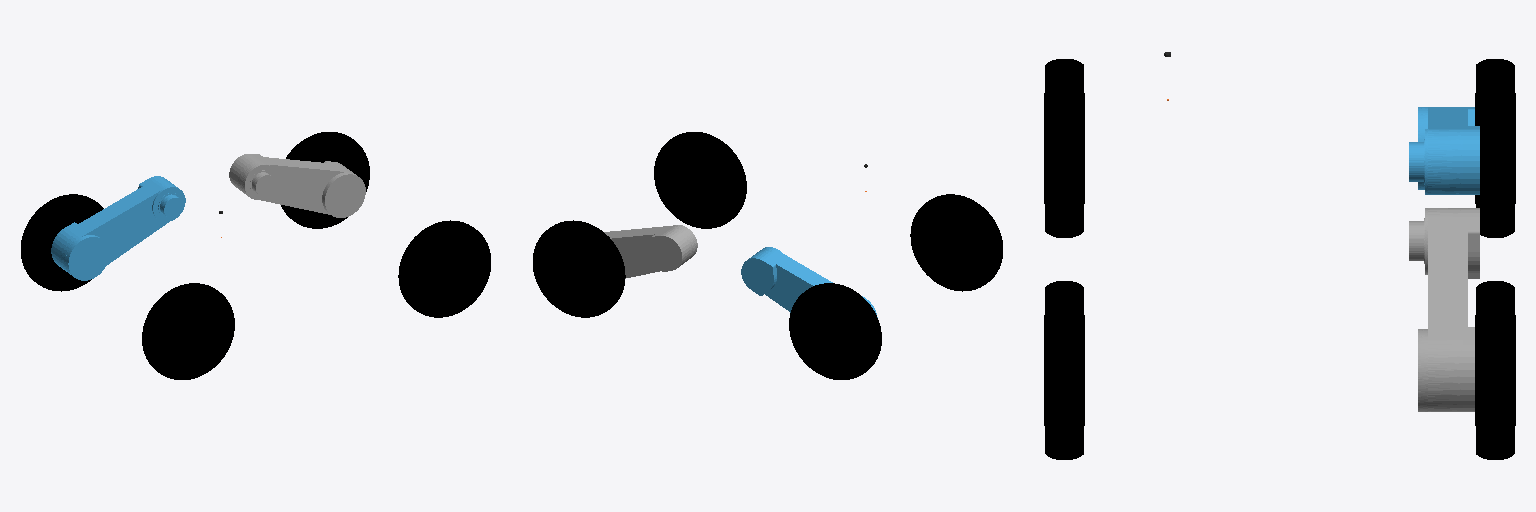
URDF robot description (AFMER):
<?xml version="1.0"?>
<robot name="AFMER">

    <material name="orange">
        <color rgba="1.0 0.5 0.2 1" />
    </material>
    <material name="gray">
        <color rgba="0.2 0.2 0.2 1" />
    </material>
    
    <link name="imu_link">
        <visual>
          <origin xyz="0 0 0" />
          <geometry>
            <box size="0.00312 0.00174 0.00022" />
          </geometry>
          <material name="orange" />
        </visual>
    </link>
    
    <link name="laser">
        <visual>
          <origin xyz="0 0 0" />
          <geometry>
            <cylinder length="0.003" radius="0.0035" />
          </geometry>
          <material name="gray" />
        </visual>
    </link>

    <link name="base_link">
        <collision>
            <origin rpy="0 0 0" xyz="0 0 0" /> ... "-0.01517 -0.0125 0.00545"
            <geometry>
                <mesh filename="package://AFMER_description/models/AFMER/meshes/main.dae" scale="0.01 0.01 0.01"/>
            </geometry>
        </collision>
        <visual>
            <geometry>
                <mesh filename="package://AFMER_description/models/AFMER/meshes/main.dae" scale="0.01 0.01 0.01"/>
            </geometry>
            <origin rpy="0 0 0" xyz="0 0 0" /> ... "-0.01517 -0.0125 0.00545"
            <material name="white">
                <color rgba="1 1 1 1" />
            </material>
        </visual>
        <inertial>
            <mass value="15.3"/>
            <inertia ixx="0" ixy="0.23716689375" ixz="0.1452742395" iyy="0" iyz="0.15856722375" izz="0"/>
        </inertial>
    </link>

    <link name="wheel_1">
        <collision>
            <origin rpy="0 0 0" xyz="-0.0414237 -0.029315 0.0120757" />
            <geometry>
                <mesh filename="package://AFMER_description/models/AFMER/meshes/wheel1.dae" scale="0.01 0.01 0.01"/>
            </geometry>
        </collision>
        <visual>
            <geometry>
                <mesh filename="package://AFMER_description/models/AFMER/meshes/wheel1.dae" scale="0.01 0.01 0.01"/>
            </geometry>
            <origin rpy="0 0 0" xyz="-0.0414237 -0.029315 0.0120757" />
            <material name="black">
                <color rgba="0 0 0 1" />
            </material>
        </visual>
        <inertial>
            <mass value="0.785"/>
            <inertia ixx="0" ixy="0.001687" ixz="0.001687" iyy="0" iyz="0.003179" izz="0"/>
        </inertial>
    </link>

    <link name="wheel_2">
        <collision>
            <origin rpy="0 0 0" xyz="-0.0414237 0.004315 0.0120757" />
            <geometry>
                <mesh filename="package://AFMER_description/models/AFMER/meshes/wheel2.dae" scale="0.01 0.01 0.01"/>
            </geometry>
        </collision>
        <visual>
            <geometry>
                <mesh filename="package://AFMER_description/models/AFMER/meshes/wheel2.dae" scale="0.01 0.01 0.01" />
            </geometry>
            <origin rpy="0 0 0" xyz="-0.0414237 0.004315 0.0120757" />
            <material name="black" />
        </visual>
        <inertial>
            <mass value="0.785"/>
            <inertia ixx="0" ixy="0.001687" ixz="0.001687" iyy="0" iyz="0.003179" izz="0"/>
            </inertial>
    </link>

    <link name="wheel_3">
        <collision>
            <origin rpy="0 0 0" xyz="0.0110837 -0.029315 0.0120757" />
            <geometry>
                <mesh filename="package://AFMER_description/models/AFMER/meshes/wheel3.dae" scale="0.01 0.01 0.01"/>
            </geometry>
        </collision>
        <visual>
            <geometry>
                <mesh filename="package://AFMER_description/models/AFMER/meshes/wheel3.dae" scale="0.01 0.01 0.01"/>
            </geometry>
            <origin rpy="0 0 0" xyz="0.0110837 -0.029315 0.0120757" />
            <material name="black" />
        </visual>
        <inertial>
            <mass value="0.785"/>
            <inertia ixx="0" ixy="0.001687" ixz="0.001687" iyy="0" iyz="0.003179" izz="0"/>
            </inertial>
    </link>

    <link name="wheel_4">
        <collision>
            <origin rpy="0 0 0" xyz="0.0110837 0.004315 0.0120757" />
            <geometry>
                <mesh filename="package://AFMER_description/models/AFMER/meshes/wheel4.dae" scale="0.01 0.01 0.01"/>
            </geometry>
        </collision>
        <visual>
            <geometry>
                <mesh filename="package://AFMER_description/models/AFMER/meshes/wheel4.dae" scale="0.01 0.01 0.01"/>
            </geometry>
            <origin rpy="0 0 0" xyz="0.0110837 0.004315 0.0120757" />
            <material name="black" />
        </visual>
        <inertial>
            <mass value="0.785"/>
            <inertia ixx="0" ixy="0.001687" ixz="0.001687" iyy="0" iyz="0.003179" izz="0"/>
            </inertial>
    </link>

    <link name="gear_1">
        <collision>
            <origin rpy="0 0 0" xyz="-0.02458 -0.029315 0.00545" />
            <geometry>
                <mesh filename="package://AFMER_description/models/AFMER/meshes/gearbox1.dae" scale="0.01 0.01 0.01"/>
            </geometry>
        </collision>
        <visual>
            <geometry>
                <mesh filename="package://AFMER_description/models/AFMER/meshes/gearbox1.dae" scale="0.01 0.01 0.01"/>
            </geometry>
            <origin rpy="0 0 0" xyz="-0.02458 -0.029315 0.00545" />
            <color rgba="1 0 1 1" />
        </visual>
        <inertial>
            <mass value="1.0"/>
            <inertia ixx="0" ixy="0.0057826875" ixz="0.000888" iyy="0" iyz="0.0060706875" izz="0"/>
        </inertial>
    </link>

    <link name="gear_2">
        <collision>
            <origin rpy="0 0 0" xyz="-0.02458 0.004315 0.00545" />
            <geometry>
                <mesh filename="package://AFMER_description/models/AFMER/meshes/gearbox2.dae" scale="0.01 0.01 0.01"/>
            </geometry>
        </collision>
        <visual>
            <geometry>
                <mesh filename="package://AFMER_description/models/AFMER/meshes/gearbox2.dae" scale="0.01 0.01 0.01"/>
            </geometry>
            <origin rpy="0 0 0" xyz="-0.02458 0.004315 0.00545" />
            <color rgba="1 0 1 1" />
        </visual>
        <inertial>
            <mass value="1.0"/>
            <inertia ixx="0" ixy="0.0057826875" ixz="0.000888" iyy="0" iyz="0.0060706875" izz="0"/>
            </inertial>
    </link>

    <link name="gear_3">
        <collision>
            <origin rpy="0 0 0" xyz="-0.00576 -0.029315 0.00545" />
            <geometry>
                <mesh filename="package://AFMER_description/models/AFMER/meshes/gearbox3.dae" scale="0.01 0.01 0.01"/>
            </geometry>
        </collision>
        <visual>
            <geometry>
                <mesh filename="package://AFMER_description/models/AFMER/meshes/gearbox3.dae" scale="0.01 0.01 0.01"/>
            </geometry>
            <origin rpy="0 0 0" xyz="-0.00576 -0.029315 0.00545" />
            <color rgba="1 0 1 1" />
        </visual>
        <inertial>
            <mass value="1.0"/>
            <inertia ixx="0" ixy="0.0057826875" ixz="0.000888" iyy="0" iyz="0.0060706875" izz="0"/>
            </inertial>
    </link>

    <link name="gear_4">
        <collision>
            <origin rpy="0 0 0" xyz="-0.00576 0.004315 0.00545" />
            <geometry>
                <mesh filename="package://AFMER_description/models/AFMER/meshes/gearbox4.dae" scale="0.01 0.01 0.01"/>
            </geometry>
        </collision>
        <visual>
            <geometry>
                <mesh filename="package://AFMER_description/models/AFMER/meshes/gearbox4.dae" scale="0.01 0.01 0.01"/>
            </geometry>
            <origin rpy="0 0 0" xyz="-0.00576 0.004315 0.00545" />
            <color rgba="1 0 1 1" />
        </visual>
        <inertial>
            <mass value="1.0"/>
            <inertia ixx="0" ixy="0.0057826875" ixz="0.000888" iyy="0" iyz="0.0060706875" izz="0"/>
        </inertial>
    </link>

    <joint name="gear1_to_wheel1" type="fixed">
        <parent link="gear_1" />
        <child link="wheel_1" />
        <origin xyz="0.0168437 0 -0.0066257" />
        <axis xyz="0 1 0"/>
        <limit effort="10" velocity="1"/>
    </joint>

    <joint name="gear2_to_wheel2" type="fixed">
        <parent link="gear_2" />
        <child link="wheel_2" />
        <origin xyz="0.0168437 0 -0.0066257" />
        <axis xyz="0 1 0"/>
        <limit effort="10" velocity="1"/>
    </joint>

    <joint name="gear3_to_wheel3" type="fixed">
        <parent link="gear_3" />
        <child link="wheel_3" />
        <origin xyz="-0.0168437 0 -0.0066257" />
        <axis xyz="0 1 0"/>
        <limit effort="10" velocity="1" />
    </joint>

    <joint name="gear4_to_wheel4" type="fixed">
        <parent link="gear_4" />
        <child link="wheel_4" />
        <origin xyz="-0.0168437 0 -0.0066257" />
        <axis xyz="0 1 0"/>
        <limit effort="10" velocity="1" />
    </joint>

    <joint name="base_to_gear1" type="fixed">
        <parent link="base_link" />
        <child link="gear_1" />
        <origin xyz="0.00941 0.016815 0" />
    </joint>

    <joint name="base_to_gear2" type="fixed">
        <parent link="base_link" />
        <child link="gear_2" />
        <origin xyz="0.00941 -0.016815 0" />
    </joint>

    <joint name="base_to_gear3" type="fixed">
        <parent link="base_link" />
        <child link="gear_3" />
        <origin xyz="-0.00941 0.016815 0" />
    </joint>

    <joint name="base_to_gear4" type="fixed">
        <parent link="base_link" />
        <child link="gear_4" />
        <origin xyz="-0.00941 -0.016815 0" />
    </joint>

    <joint name="laser_joint" type="fixed">
        <parent link="base_link" />
        <child link="laser" />
        <origin rpy="0 0 3.1415926" xyz="0 0 0.05" />
    </joint>
    
    <joint name="imu_link_joint" type="fixed">
        <parent link="base_link" />
        <child link="imu_link" />
        <origin xyz="0 0 0" />
    </joint>

</robot>

--- Facts derived from the render (not from the file) ---
The picture shows the robot from 3 angles, left to right: view 1: azimuth 30°, elevation 25°; view 2: azimuth 150°, elevation 25°; view 3: azimuth 270°, elevation 25°; orthographic projection.
Robot: AFMER — 11 links, 10 joints (10 fixed); root link base_link; default pose: all joints at 0.
Visible links, largest first — view 1: wheel_4, wheel_2, gear_3, gear_1, wheel_3, wheel_1; view 2: wheel_2, wheel_3, wheel_1, wheel_4, gear_1, gear_3; view 3: gear_1, wheel_1, wheel_2, wheel_4, wheel_3, gear_3.
Boxes of the visible links, x1,y1,x2,y2 form: wheel_4: (142, 283, 234, 379); wheel_2: (398, 220, 490, 317); gear_3: (51, 176, 185, 280); gear_1: (229, 154, 365, 217); wheel_3: (21, 194, 103, 291); wheel_1: (281, 132, 369, 228); wheel_2: (654, 132, 746, 228); wheel_3: (789, 283, 881, 379); wheel_1: (533, 220, 625, 317); wheel_4: (910, 194, 1002, 291); gear_1: (604, 225, 697, 278); gear_3: (741, 247, 877, 317); gear_1: (1409, 208, 1479, 411); wheel_1: (1475, 281, 1515, 459); wheel_2: (1044, 281, 1084, 459); wheel_4: (1044, 59, 1084, 237); wheel_3: (1475, 59, 1515, 237); gear_3: (1409, 107, 1479, 194).
Size in the robot's own frame: 0.7068 by 0.4722 by 0.2545 metres.
Meshes: 9 distinct files referenced, 6 mesh visuals loaded (6 Collada DAE); not drawn: 3 (reference not matched to a file when rendering).
